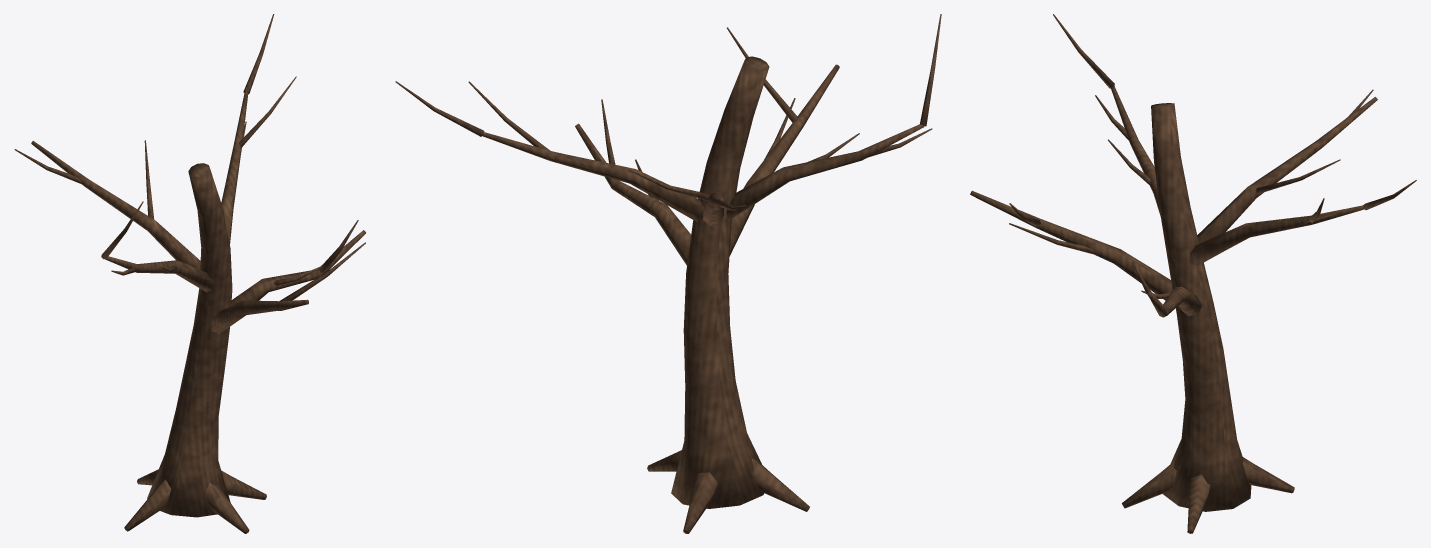
The model's file is Tree_Dead.fbx.
3 views of the same model, side by side, from view 1: azimuth 30°, elevation 25°; view 2: azimuth 150°, elevation 25°; view 3: azimuth 270°, elevation 25° (orthographic). The views are drawn at different scales.
Parts seen in each view (by area): view 1: Tree_Dead.001; view 2: Tree_Dead.001; view 3: Tree_Dead.001.
Boxes of the visible parts, left/top/right/bottom form: Tree_Dead.001: left=14, top=14, right=365, bottom=533; Tree_Dead.001: left=395, top=14, right=941, bottom=533; Tree_Dead.001: left=970, top=14, right=1416, bottom=533.
Bounding box in the file's own units: 4.31 × 5.13 × 4.92.
